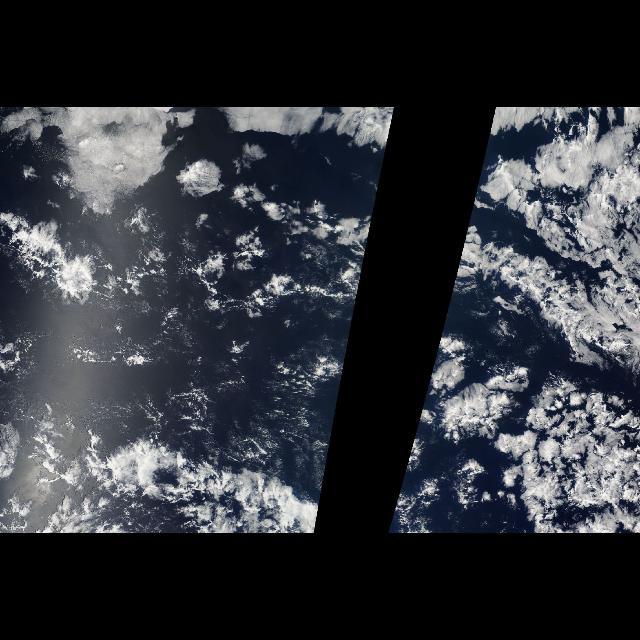Fish: (20, 401, 306, 529)
Flower: (176, 154, 384, 462), (408, 162, 526, 462)
Sugar: (96, 327, 294, 445)
